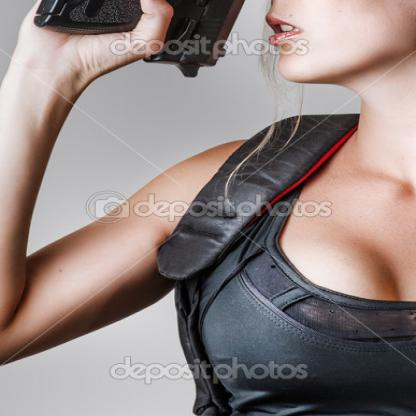gun: (18, 0, 308, 91)
